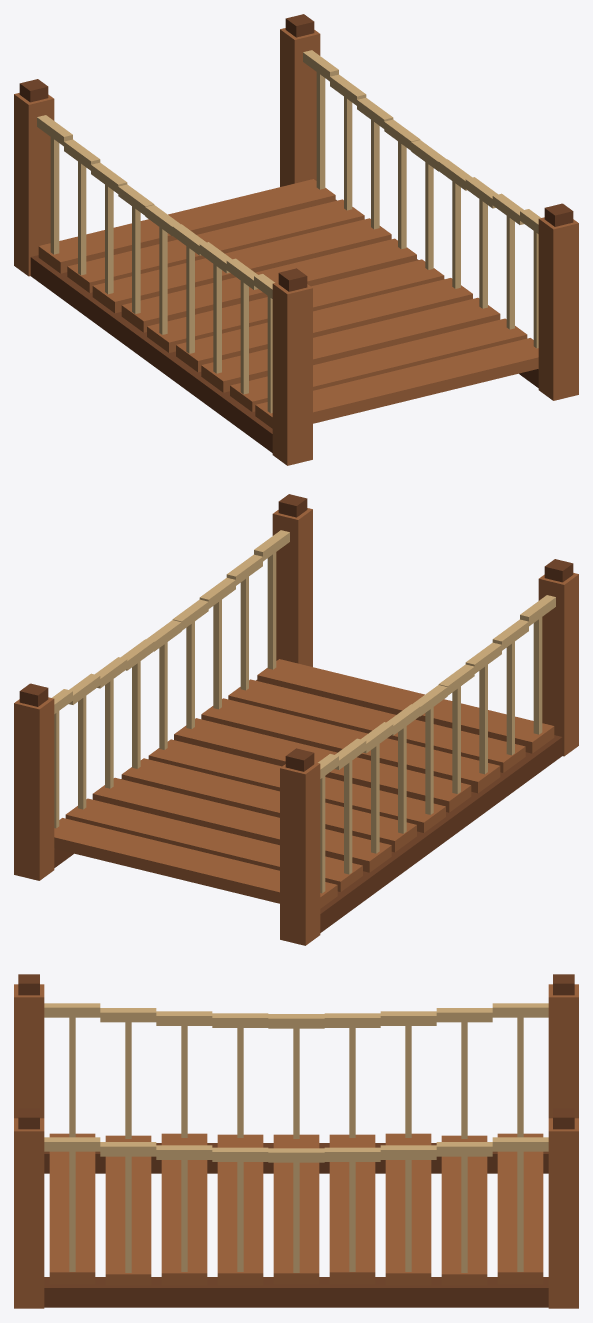
The model's file is Windswept_Bridge.glb.
3 renders of one model, top to bottom at view 1: azimuth 30°, elevation 25°; view 2: azimuth 150°, elevation 25°; view 3: azimuth 270°, elevation 25°, orthographic. The views are drawn at different scales.
Visible parts, largest first — view 1: Plank_9, Post_FrontL, Post_FrontR, Plank_1, Plank_7, Plank_3, Stringer_L, Plank_8, Plank_2, Plank_6, Plank_4, Post_BackL (+20 smaller); view 2: Plank_1, Post_BackL, Post_BackR, Plank_9, Plank_3, Plank_7, Stringer_L, Plank_2, Plank_8, Plank_6, Plank_4, Post_FrontL (+20 smaller); view 3: Stringer_R, Plank_3, Plank_7, Plank_6, Plank_5, Plank_1, Plank_9, Plank_4, Plank_2, Plank_8, Post_BackR, Post_FrontR (+43 smaller).
Boxes of the visible parts, <box> form: Plank_9: <box>255,338,538,428</box>; Post_FrontL: <box>272,282,312,465</box>; Post_FrontR: <box>538,217,578,400</box>; Plank_1: <box>38,179,335,273</box>; Plank_7: <box>201,297,500,392</box>; Plank_3: <box>92,218,391,313</box>; Stringer_L: <box>30,255,272,452</box>; Plank_8: <box>230,318,527,411</box>; Plank_2: <box>67,199,364,292</box>; Plank_6: <box>176,278,472,372</box>; Plank_4: <box>121,238,416,332</box>; Post_BackL: <box>14,93,54,276</box>; Plank_1: <box>54,818,337,908</box>; Post_BackL: <box>280,762,320,945</box>; Post_BackR: <box>14,697,54,880</box>; Plank_9: <box>257,659,554,753</box>; Plank_3: <box>92,777,391,872</box>; Plank_7: <box>201,698,500,793</box>; Stringer_L: <box>320,735,562,932</box>; Plank_2: <box>65,798,362,891</box>; Plank_8: <box>228,679,525,772</box>; Plank_6: <box>174,718,471,812</box>; Plank_4: <box>121,758,416,852</box>; Post_FrontL: <box>538,573,578,756</box>; Stringer_R: <box>44,1277,548,1307</box>; Plank_3: <box>385,1133,431,1285</box>; Plank_7: <box>161,1133,207,1285</box>; Plank_6: <box>217,1134,263,1285</box>; Plank_5: <box>273,1134,319,1284</box>; Plank_1: <box>497,1133,543,1284</box>; Plank_9: <box>49,1133,95,1284</box>; Plank_4: <box>329,1134,375,1284</box>; Plank_2: <box>441,1135,487,1285</box>; Plank_8: <box>105,1135,151,1285</box>; Post_BackR: <box>548,1118,578,1308</box>; Post_FrontR: <box>14,1118,44,1308</box>.
Size of the model in its own units: 1.6 by 0.96 by 2.6.
